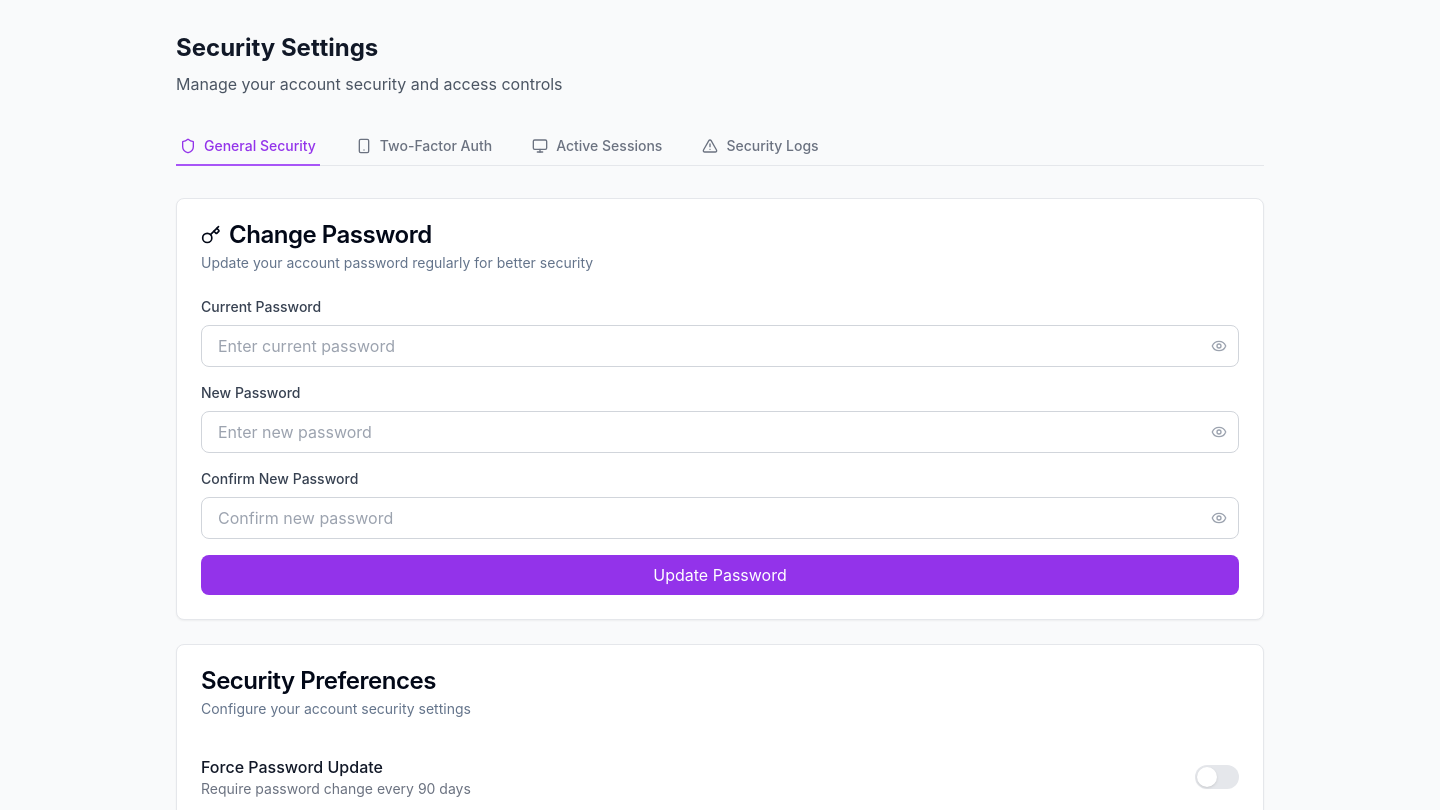
Test case: ProductionSettingsSecurity › switches to 2FA tab
Click the button "Two-Factor Auth" at (424, 147), box [352,128,496,166]
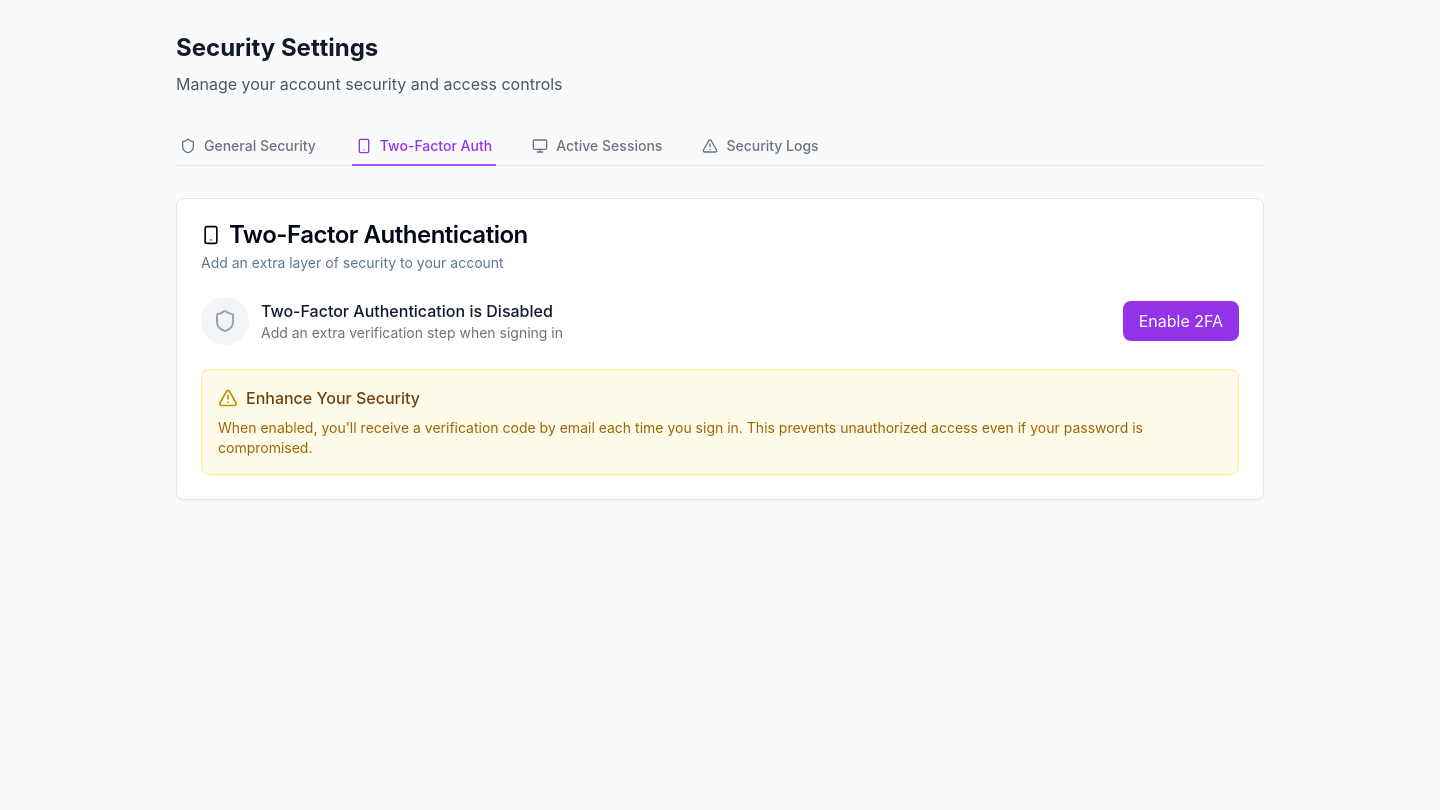
Check: the text "Two-Factor Authentication" is shown, box [201,220,528,249]
Check: the heading "Two-Factor Authentication is Disabled" is shown, box [261,299,563,323]
